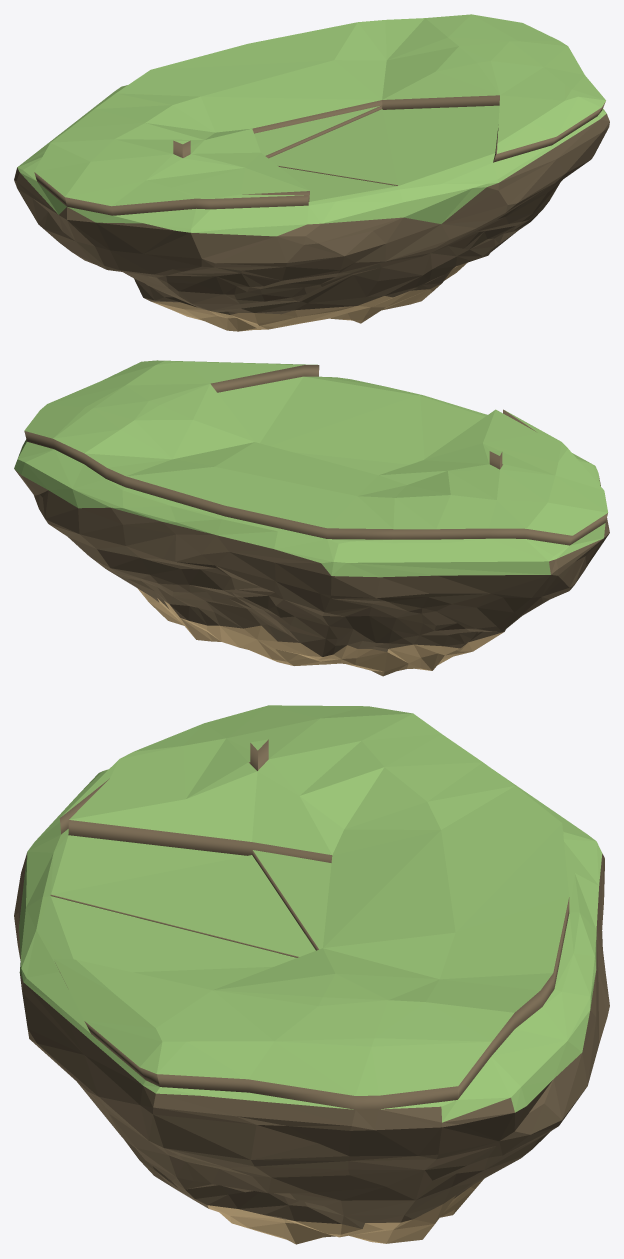
Rendered from floating island 5.fbx.
3 views of the same model, one above another, from view 1: azimuth 30°, elevation 25°; view 2: azimuth 150°, elevation 25°; view 3: azimuth 270°, elevation 25° (orthographic). The views are drawn at different scales.
Parts seen in each view (by area): view 1: polySurface5; view 2: polySurface5; view 3: polySurface5.
Boxes of the visible parts, <box> form: polySurface5: <box>14,14,609,331</box>; polySurface5: <box>14,360,609,676</box>; polySurface5: <box>14,705,609,1244</box>.
Size of the model in its own units: 11.59 by 4.33 by 7.46.
